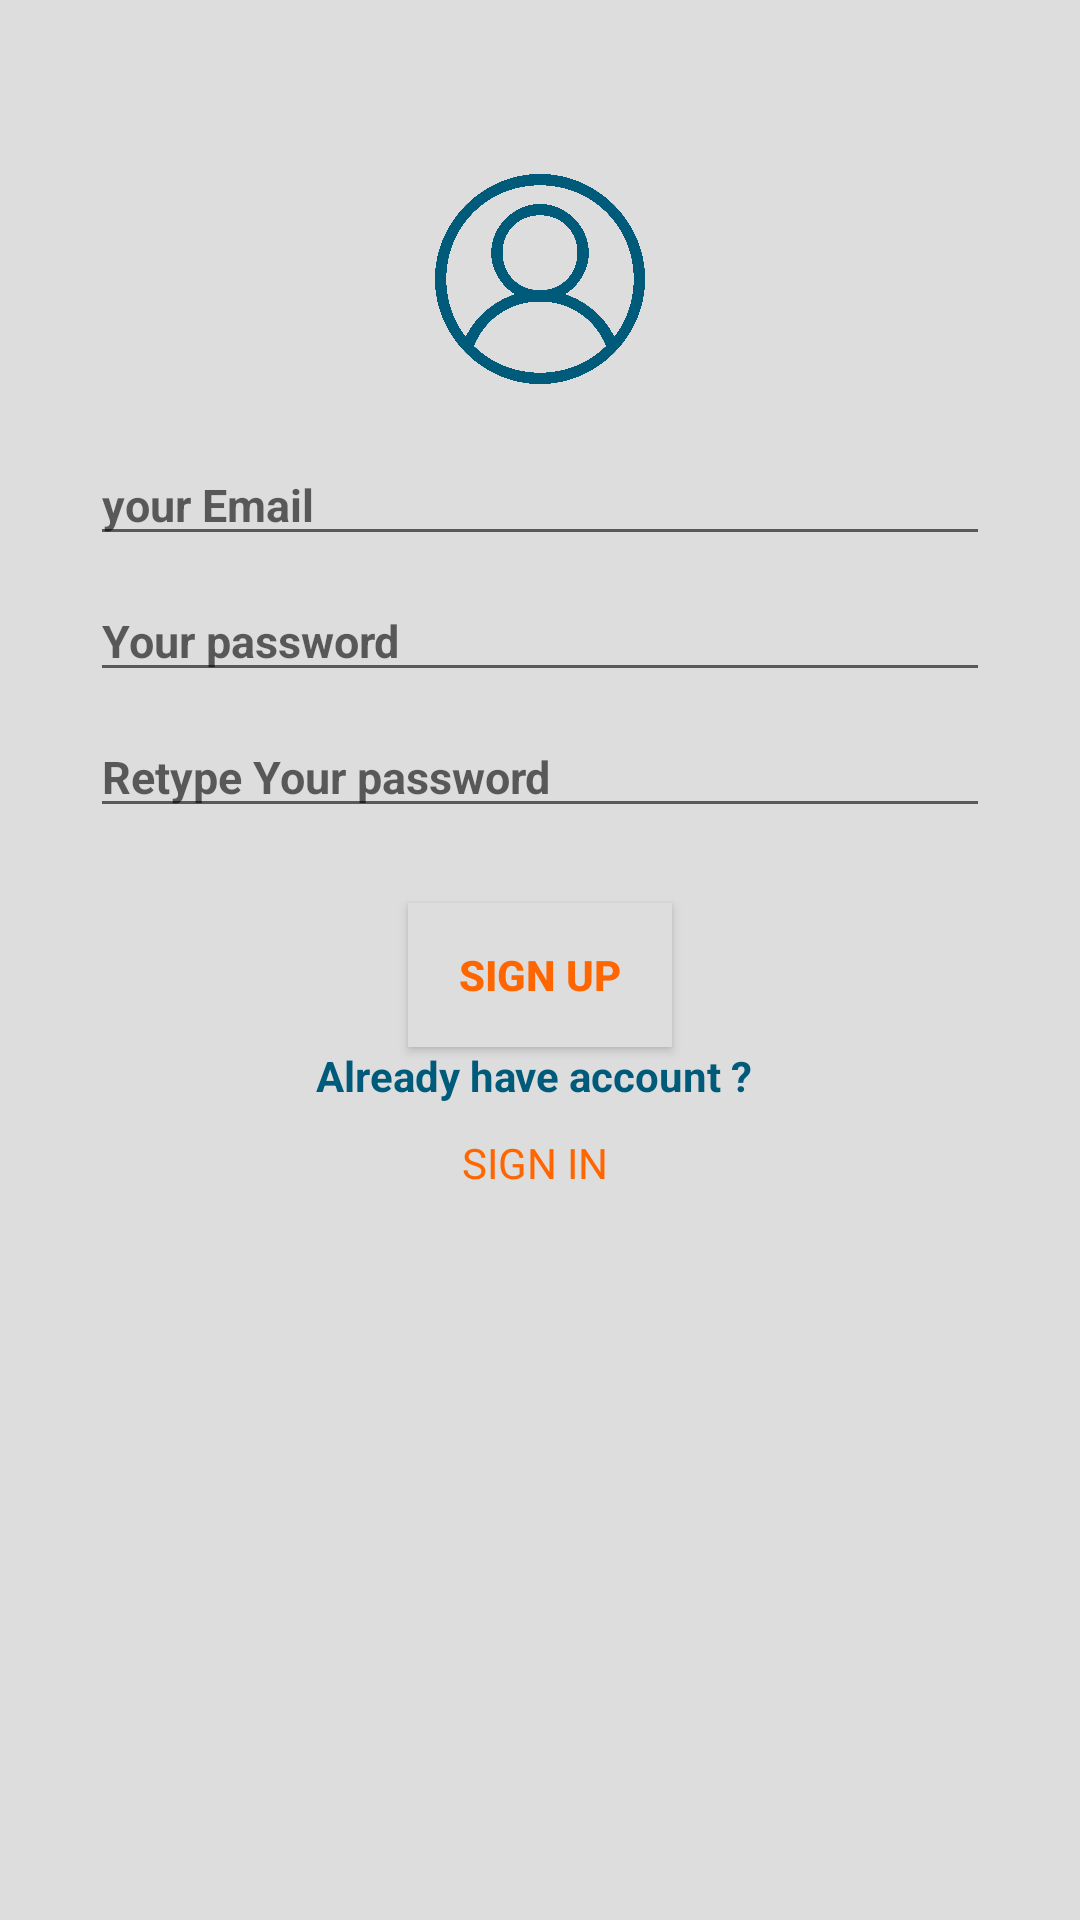

Screen size 1080w x 1920h. Icon name, then its center in pixels as point (x, y):
user: point (540, 279)
